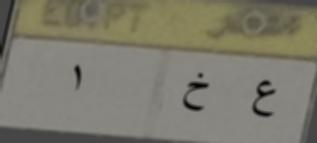1: (69, 55, 89, 96)
ain: (248, 71, 278, 123)
khaa: (178, 66, 212, 116)
